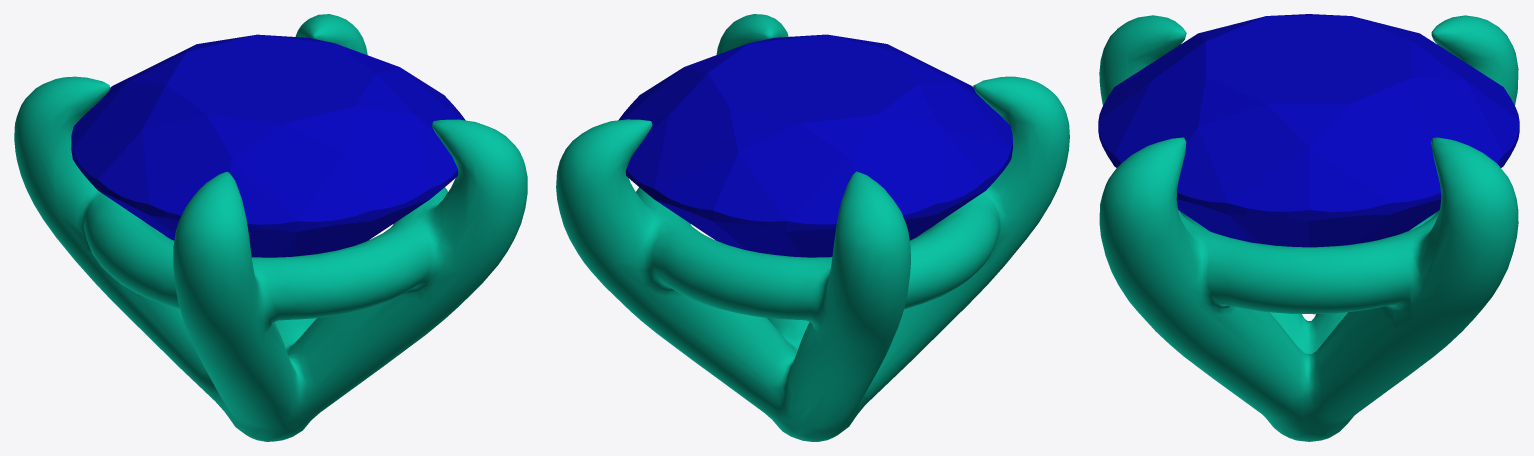
Rendered from Round.glb.
The picture shows the model from 3 angles, left to right: view 1: azimuth 30°, elevation 25°; view 2: azimuth 150°, elevation 25°; view 3: azimuth 270°, elevation 25°; orthographic projection. The views are drawn at different scales.
Parts seen in each view (by area): view 1: /GSMOD388300- CLAW PRONG_Round_IJ.3dm, Diamond_Round; view 2: /GSMOD388300- CLAW PRONG_Round_IJ.3dm, Diamond_Round; view 3: /GSMOD388300- CLAW PRONG_Round_IJ.3dm, Diamond_Round.
Part boxes in pixels (x1,y1,x2,y2): /GSMOD388300- CLAW PRONG_Round_IJ.3dm: (14,14,527,441); Diamond_Round: (71,34,465,257); /GSMOD388300- CLAW PRONG_Round_IJ.3dm: (556,14,1069,441); Diamond_Round: (618,34,1012,257); /GSMOD388300- CLAW PRONG_Round_IJ.3dm: (1099,15,1518,441); Diamond_Round: (1098,14,1519,247).
Size of the model in its own units: 7.4 by 7.29 by 7.4.
